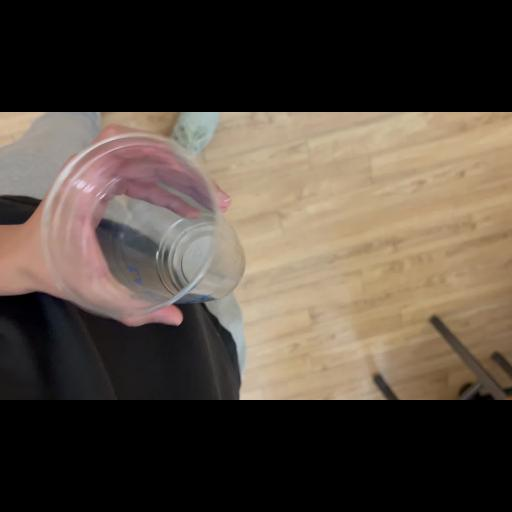lp_plastic_cup: (40, 132, 242, 316)
